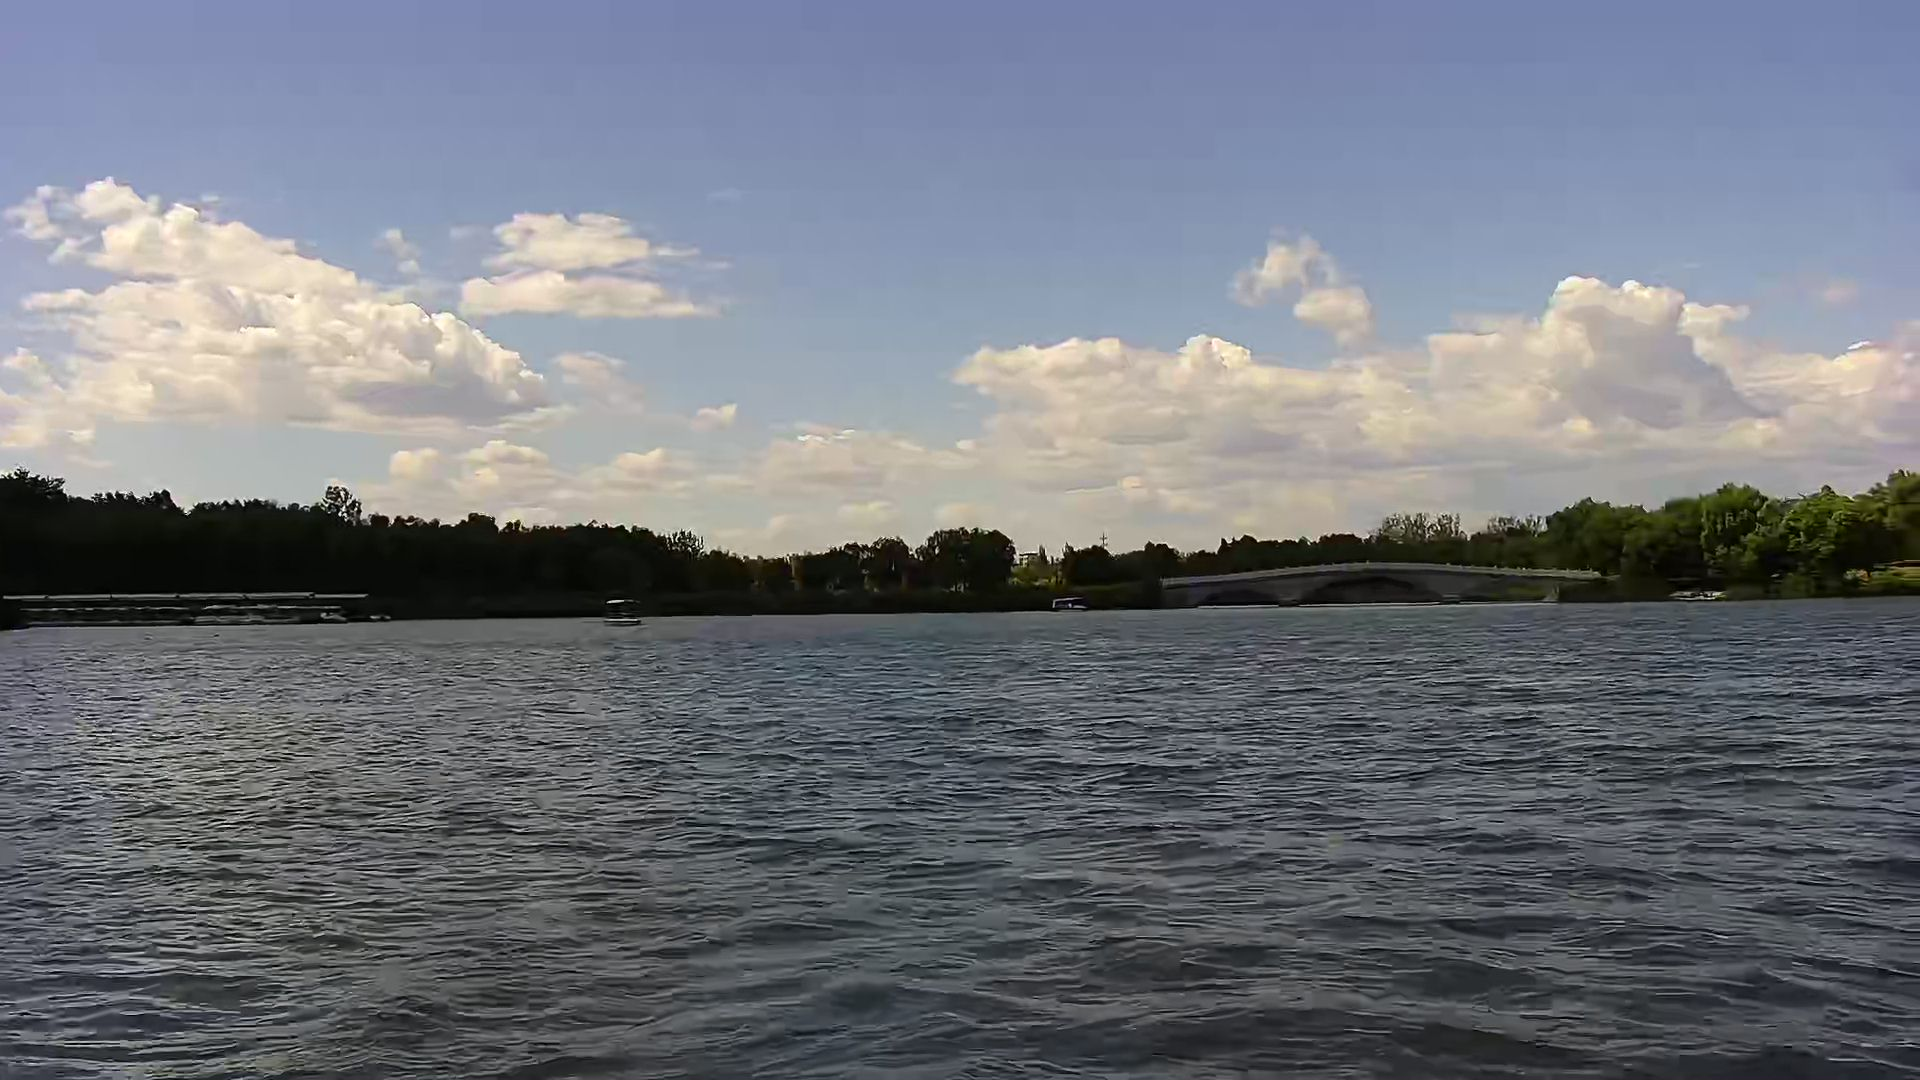boat: (603, 589, 647, 628)
bridge: (1164, 558, 1604, 608)
harbor: (1, 585, 368, 630)
